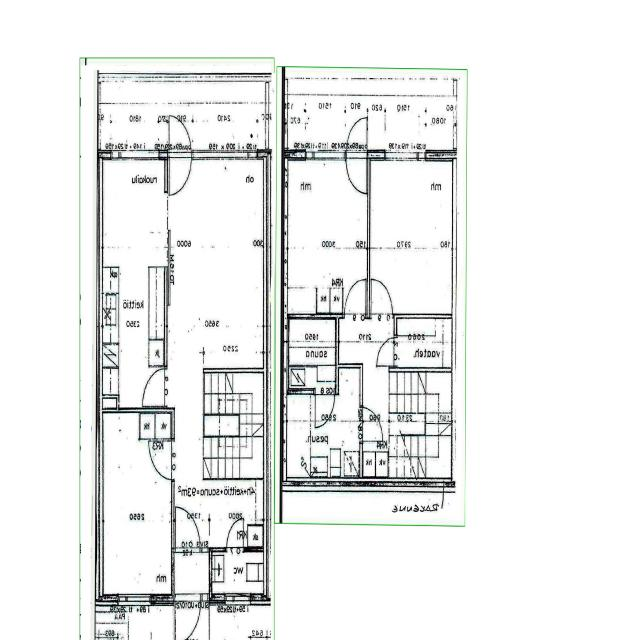door: (176, 593, 201, 640), (176, 507, 200, 552), (346, 150, 367, 195), (346, 115, 367, 160), (371, 277, 393, 318), (170, 150, 190, 195), (170, 114, 190, 159), (150, 441, 174, 478), (143, 369, 167, 406), (344, 278, 366, 318), (360, 408, 382, 441), (316, 389, 334, 426), (378, 338, 397, 365), (227, 520, 243, 552)
